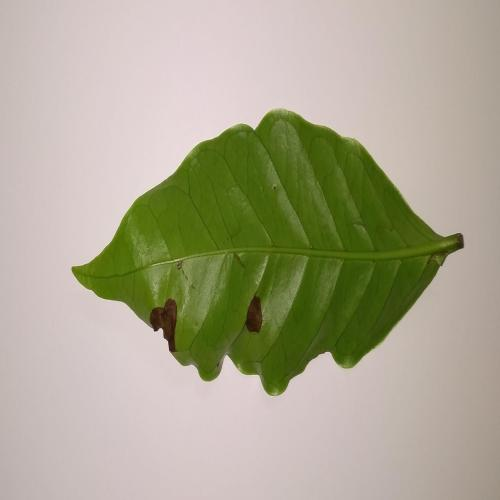miner: (245, 297, 262, 332)
